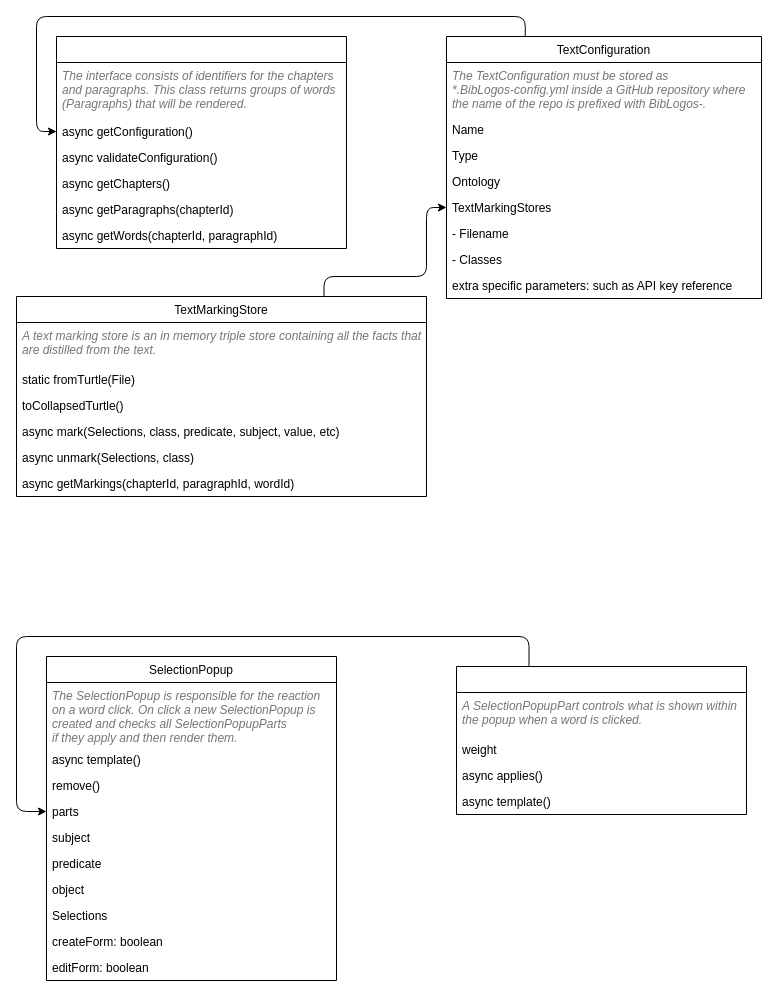
This 778x997 diagram has some shape labels left out. Each missing label, with the box of its shape:
SelectionPopupPart like a delete / create button: (456, 666, 746, 814)
TextSource: (56, 36, 346, 248)
